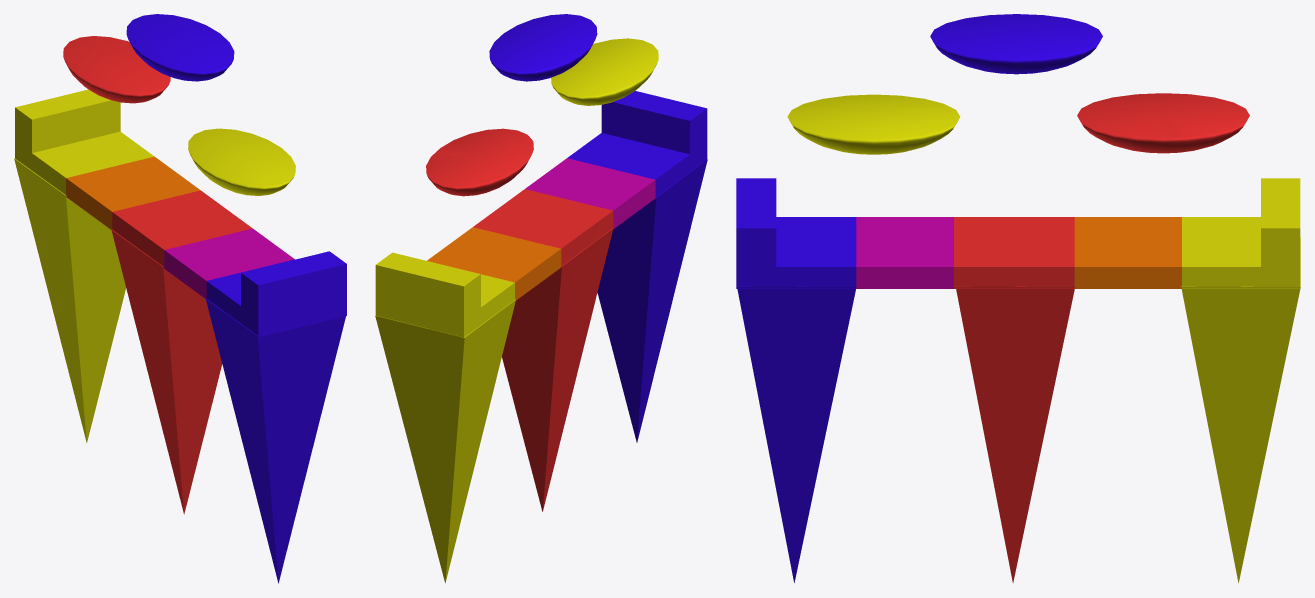
The model's file is jay stage.fbx.
3 renders of one model, left to right at view 1: azimuth 30°, elevation 25°; view 2: azimuth 150°, elevation 25°; view 3: azimuth 270°, elevation 25°, orthographic. The views are drawn at different scales.
Visible parts, largest first — view 1: pCube1, pPyramid6, pPyramid8, pPyramid7, pSphere2, pSphere1, pSphere3; view 2: pCube1, pPyramid8, pPyramid7, pPyramid6, pSphere1, pSphere3, pSphere2; view 3: pCube1, pPyramid8, pPyramid7, pPyramid6, pSphere2, pSphere1, pSphere3.
Boxes of the visible parts, box(x1,y1,x2,y2) form: pCube1: box(15, 89, 346, 337); pPyramid6: box(206, 298, 345, 583); pPyramid8: box(14, 158, 125, 442); pPyramid7: box(111, 229, 222, 514); pSphere2: box(188, 128, 295, 195); pSphere1: box(126, 14, 234, 81); pSphere3: box(63, 36, 170, 103); pCube1: box(375, 91, 707, 337); pPyramid8: box(375, 299, 515, 583); pPyramid7: box(502, 228, 613, 511); pPyramid6: box(597, 159, 707, 442); pSphere1: box(489, 14, 597, 81); pSphere3: box(426, 128, 533, 196); pSphere2: box(551, 38, 658, 105); pCube1: box(736, 178, 1300, 288); pPyramid8: box(1181, 237, 1300, 582); pPyramid7: box(955, 286, 1074, 582); pPyramid6: box(737, 286, 856, 582); pSphere2: box(787, 94, 960, 154); pSphere1: box(930, 14, 1102, 74); pSphere3: box(1077, 93, 1249, 153).
Bounding box in the file's own units: 2.22 × 11.16 × 10.45.
